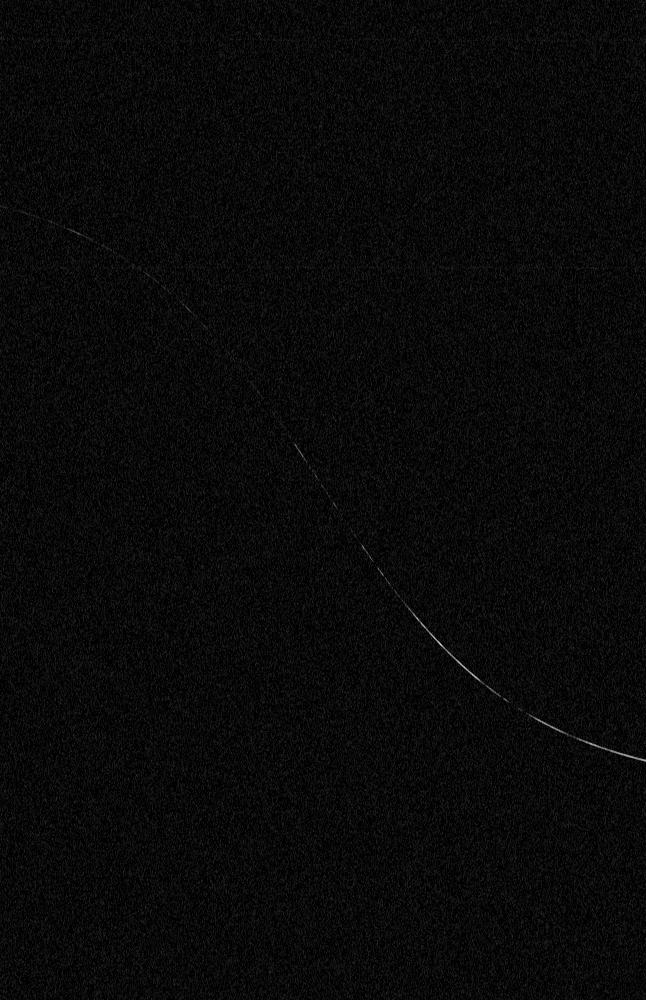signal: (0, 0, 645, 999)
